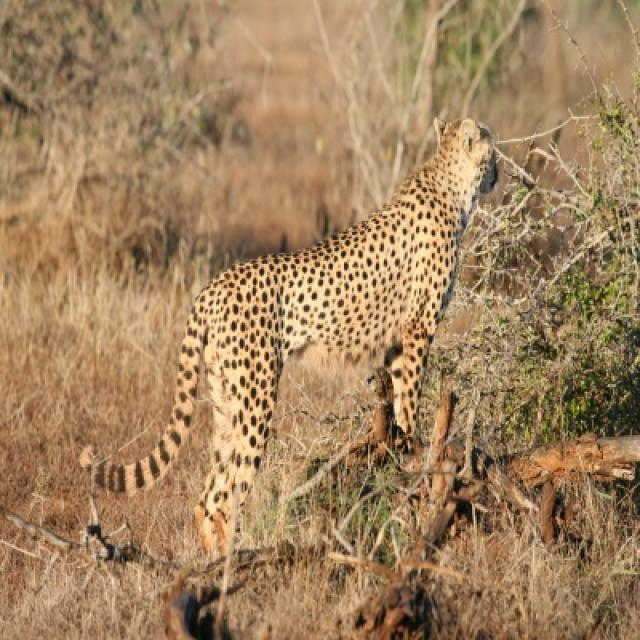Cheetah: (117, 118, 507, 565)
